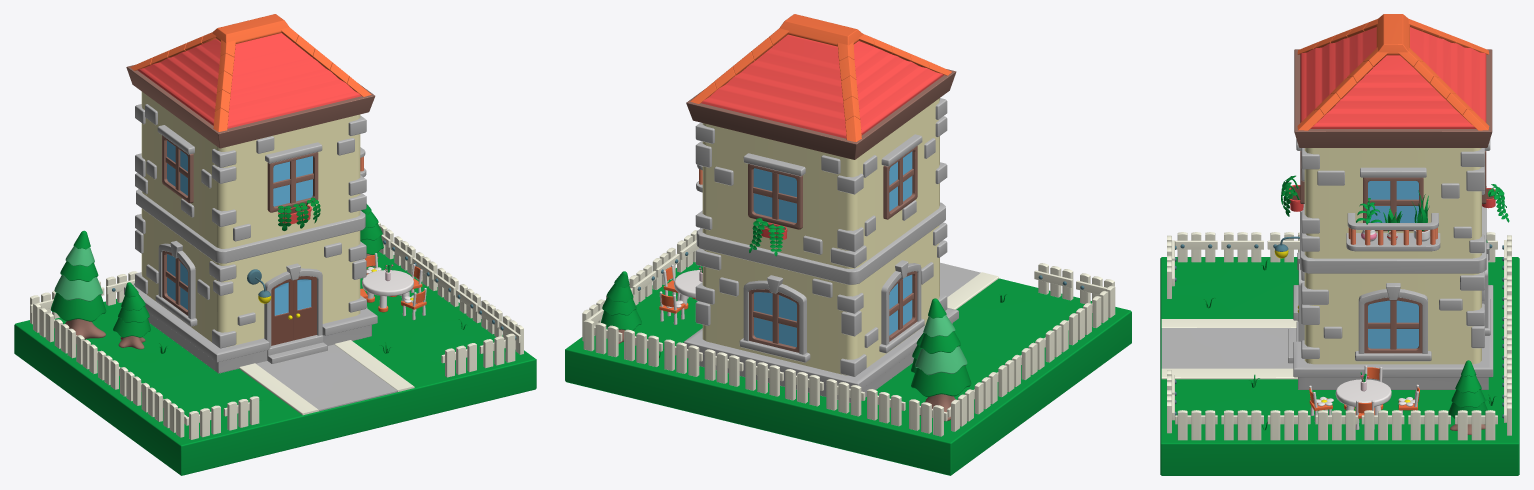
The model's file is Town_Island_3.glb.
3 renders of one model, left to right at view 1: azimuth 30°, elevation 25°; view 2: azimuth 150°, elevation 25°; view 3: azimuth 270°, elevation 25°, orthographic. The views are drawn at different scales.
Parts seen in each view (by area): view 1: Town_3_House_1, Town_3_Base_1, Town_3_Path_1, Town_3_Tree_1, Town_3_Tree_3, Town_3_Table_1, Town_3_Fence_17, Town_3_Fence_20, Town_3_Fence_18, Town_3_Fence_19, Town_3_Plant_1, Town_3_Tree_2 (+13 smaller); view 2: Town_3_House_1, Town_3_Base_1, Town_3_Tree_1, Town_3_Path_1, Town_3_Tree_2, Town_3_Fence_5, Town_3_Fence_8, Town_3_Fence_2, Town_3_Fence_20, Town_3_Fence_3, Town_3_Fence_1, Town_3_Fence_4 (+16 smaller); view 3: Town_3_House_1, Town_3_Base_1, Town_3_Path_1, Town_3_Tree_2, Town_3_Table_1, Town_3_Fence_11, Town_3_Fence_16, Town_3_Fence_10, Town_3_Fence_22, Town_3_Fence_15, Town_3_Fence_23, Town_3_Fence_13 (+7 smaller).
Part boxes in pixels (x1=…): Town_3_House_1: x1=124, y1=14, x2=377, y2=373; Town_3_Base_1: x1=14, y1=251, x2=536, y2=475; Town_3_Path_1: x1=239, y1=340, x2=414, y2=415; Town_3_Tree_1: x1=50, y1=230, x2=106, y2=339; Town_3_Tree_3: x1=113, y1=282, x2=150, y2=349; Town_3_Table_1: x1=362, y1=270, x2=413, y2=312; Town_3_Fence_17: x1=479, y1=333, x2=515, y2=368; Town_3_Fence_20: x1=223, y1=396, x2=259, y2=430; Town_3_Fence_18: x1=441, y1=343, x2=476, y2=377; Town_3_Fence_19: x1=185, y1=405, x2=220, y2=439; Town_3_Plant_1: x1=278, y1=197, x2=320, y2=230; Town_3_Tree_2: x1=360, y1=204, x2=383, y2=266; Town_3_House_1: x1=683, y1=14, x2=958, y2=402; Town_3_Base_1: x1=565, y1=262, x2=1131, y2=475; Town_3_Tree_1: x1=911, y1=298, x2=971, y2=421; Town_3_Path_1: x1=940, y1=262, x2=998, y2=309; Town_3_Tree_2: x1=601, y1=271, x2=641, y2=343; Town_3_Fence_5: x1=583, y1=320, x2=622, y2=357; Town_3_Fence_8: x1=826, y1=379, x2=865, y2=416; Town_3_Fence_2: x1=704, y1=349, x2=743, y2=386; Town_3_Fence_20: x1=1034, y1=263, x2=1073, y2=300; Town_3_Fence_3: x1=664, y1=339, x2=702, y2=376; Town_3_Fence_1: x1=745, y1=359, x2=783, y2=396; Town_3_Fence_4: x1=624, y1=329, x2=662, y2=366; Town_3_House_1: x1=1288, y1=14, x2=1493, y2=389; Town_3_Base_1: x1=1160, y1=257, x2=1519, y2=475; Town_3_Path_1: x1=1161, y1=319, x2=1297, y2=379; Town_3_Tree_2: x1=1448, y1=360, x2=1487, y2=434; Town_3_Table_1: x1=1335, y1=379, x2=1391, y2=415; Town_3_Fence_11: x1=1408, y1=410, x2=1450, y2=440; Town_3_Fence_16: x1=1175, y1=410, x2=1217, y2=440; Town_3_Fence_10: x1=1455, y1=410, x2=1497, y2=440; Town_3_Fence_22: x1=1175, y1=232, x2=1217, y2=262; Town_3_Fence_15: x1=1221, y1=410, x2=1263, y2=440; Town_3_Fence_23: x1=1221, y1=232, x2=1263, y2=262; Town_3_Fence_13: x1=1315, y1=410, x2=1358, y2=440.
Size of the model in its own units: 13.78 by 12.18 by 11.2.
Materials: 53 (53 with a texture image).
